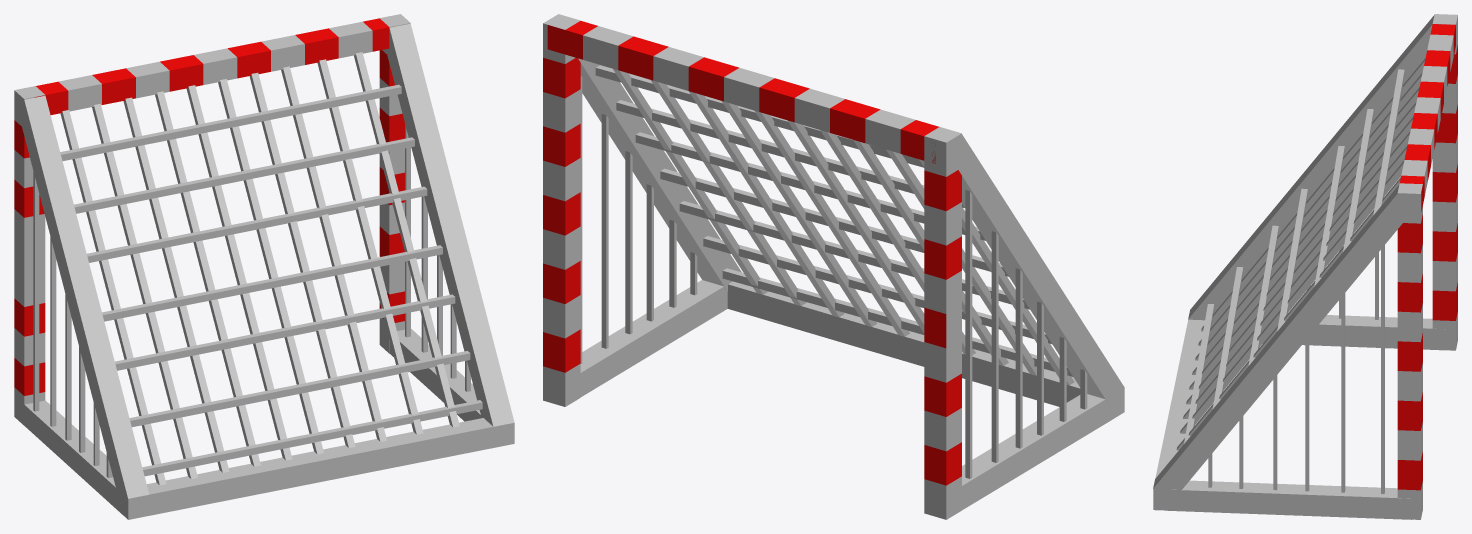
The model's file is Soccer goal.gltf.
The picture shows the model from 3 angles, left to right: view 1: azimuth 30°, elevation 25°; view 2: azimuth 150°, elevation 25°; view 3: azimuth 270°, elevation 25°; orthographic projection. The views are drawn at different scales.
Parts seen in each view (by area): view 1: node-0; view 2: node-0; view 3: node-0.
Boxes of the visible parts, bbox=[...] form: node-0: bbox=[14, 14, 514, 519]; node-0: bbox=[543, 14, 1124, 519]; node-0: bbox=[1153, 14, 1457, 519].
Bounding box in the file's own units: 672742 × 541017 × 458577.
